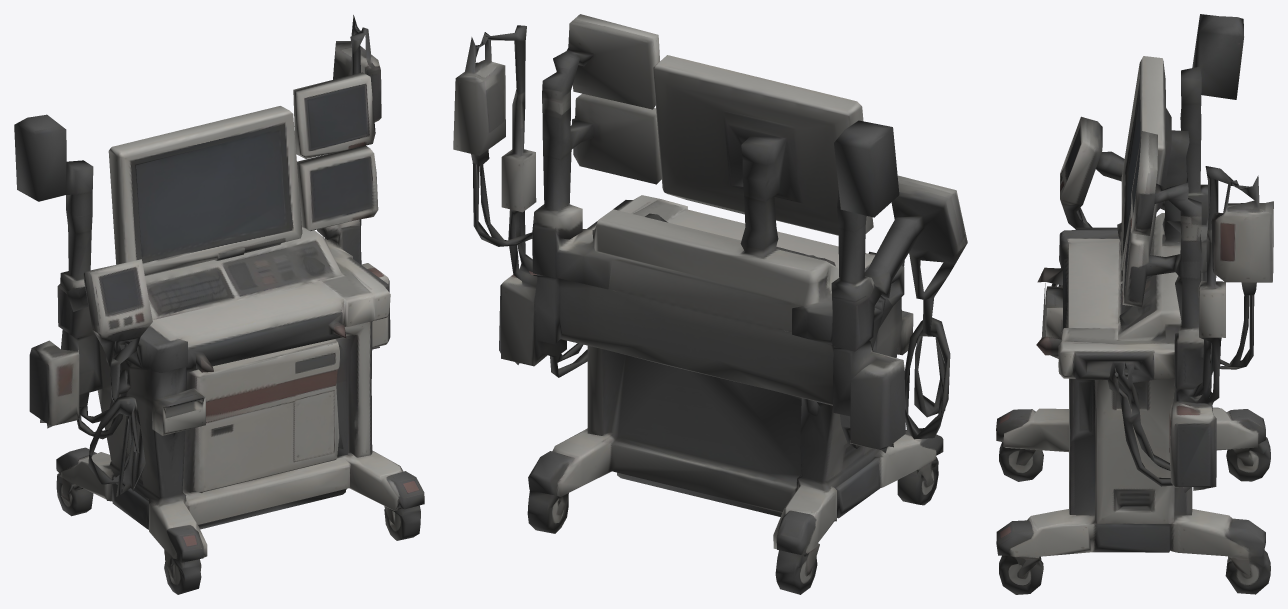
Rendered from ENV_ALL_130_v001_RAW.glb.glb.
3 views of the same model, side by side, from view 1: azimuth 30°, elevation 25°; view 2: azimuth 150°, elevation 25°; view 3: azimuth 270°, elevation 25° (orthographic). The views are drawn at different scales.
Parts seen in each view (by area): view 1: tripo_node_181eb57a-e892-40a4-a77c-4ef26cf9ae6f; view 2: tripo_node_181eb57a-e892-40a4-a77c-4ef26cf9ae6f; view 3: tripo_node_181eb57a-e892-40a4-a77c-4ef26cf9ae6f.
Part boxes in pixels (left/top/right/bottom): tripo_node_181eb57a-e892-40a4-a77c-4ef26cf9ae6f: left=14, top=15, right=424, bottom=594; tripo_node_181eb57a-e892-40a4-a77c-4ef26cf9ae6f: left=453, top=14, right=967, bottom=594; tripo_node_181eb57a-e892-40a4-a77c-4ef26cf9ae6f: left=996, top=14, right=1273, bottom=594.
Bounding box in the file's own units: 0.863 × 0.9787 × 0.5488.
1 material, 1 textured.
